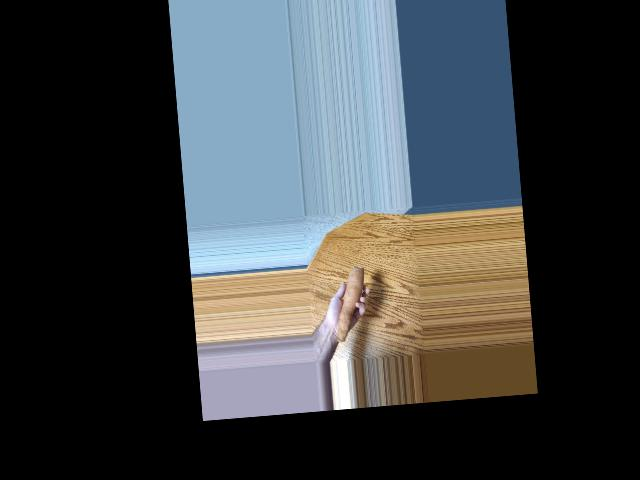sweet_potato: (329, 266, 371, 341)
